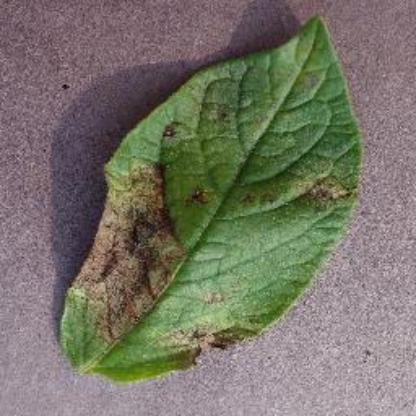Late-Blight: (60, 10, 364, 382)
